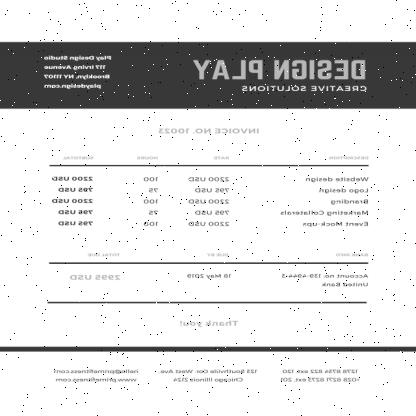Paragraph: (190, 57, 370, 94), (275, 250, 373, 295), (40, 53, 116, 92), (64, 250, 128, 284), (156, 366, 264, 386), (182, 249, 240, 283), (275, 366, 365, 386), (51, 366, 142, 384), (157, 126, 260, 135), (175, 317, 245, 330)
Table: (47, 152, 373, 232)
